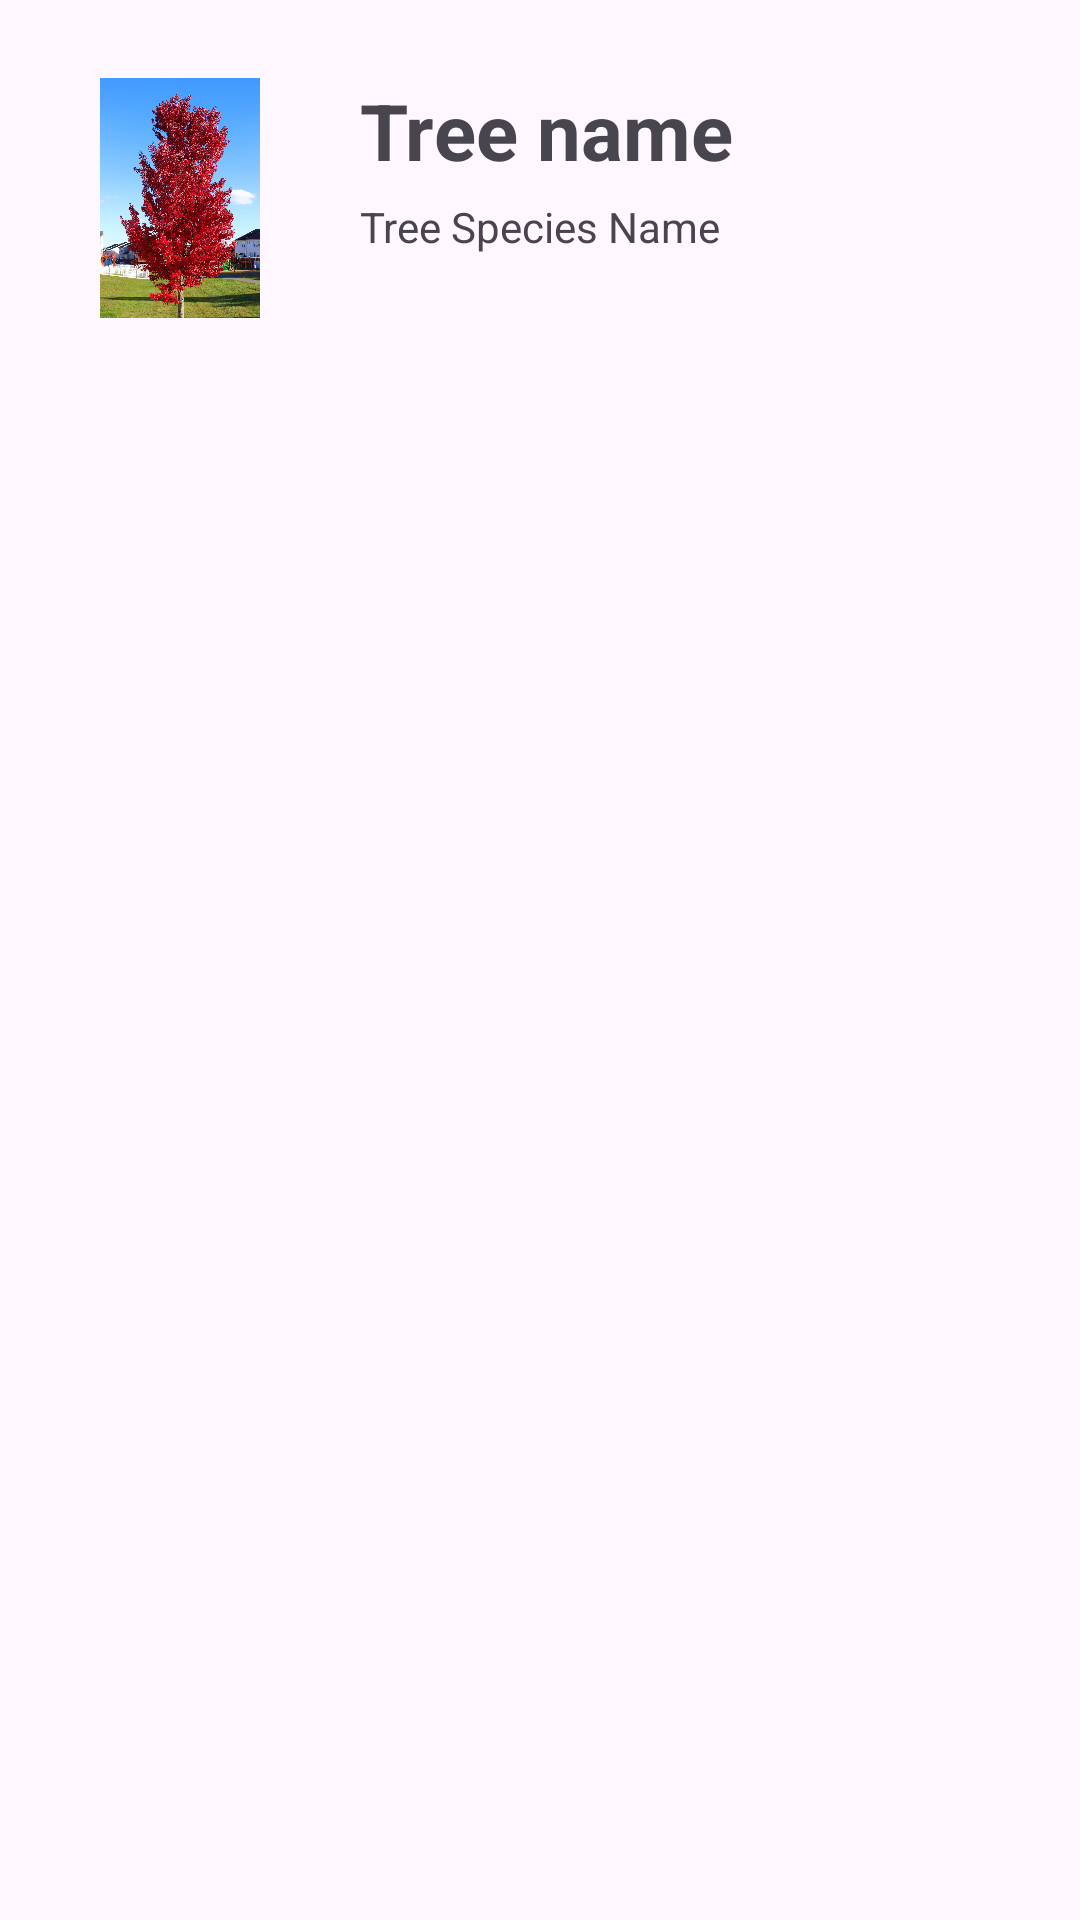

Icon bounding boxes for this 1080x1920 phone screenshot, format (x1, y1, x2, y2):
redmaple: (100, 78, 260, 318)
